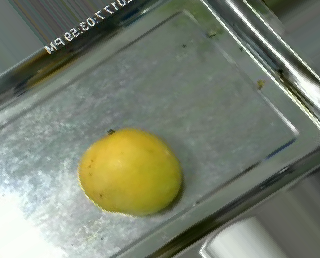Mango: (77, 126, 192, 220)
